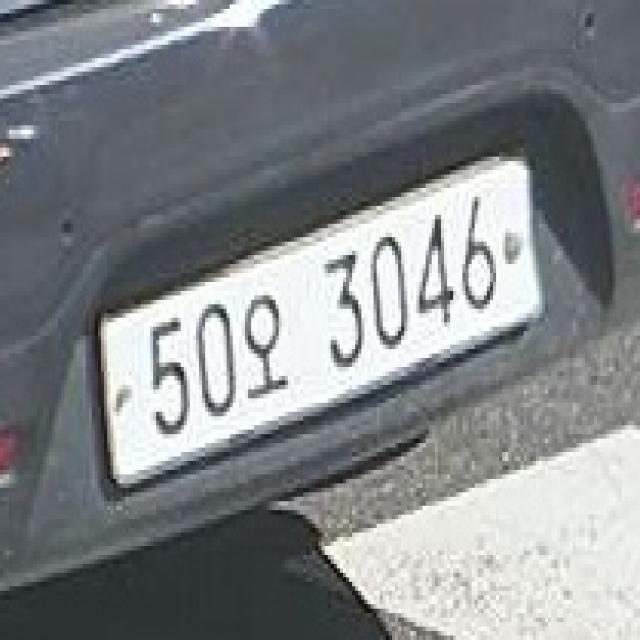0: (194, 297, 240, 417), (369, 230, 412, 348)
3: (318, 242, 366, 372)
4: (414, 212, 456, 340)
5: (147, 312, 192, 442)
6: (458, 192, 500, 314)
license_plate: (76, 118, 561, 538)
o: (242, 283, 290, 405)
